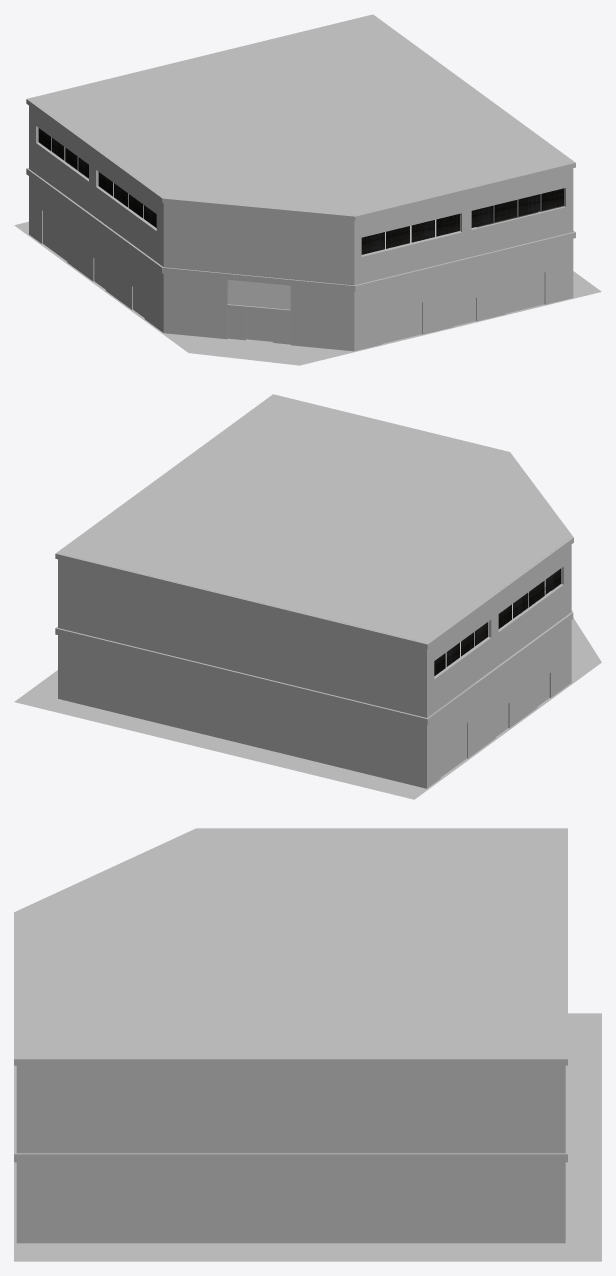
3 renders of one model, top to bottom at view 1: azimuth 30°, elevation 25°; view 2: azimuth 150°, elevation 25°; view 3: azimuth 270°, elevation 25°, orthographic. The views are drawn at different scales.
Visible parts, largest first — view 1: EB-021; view 2: EB-021; view 3: EB-021.
Part boxes in pixels (x1,y1,x2,y2): EB-021: (14,14,601,365); EB-021: (14,394,601,799); EB-021: (14,828,601,1261).
Size of what is drawn, in the model's own units: 36 by 12.5 by 36.
